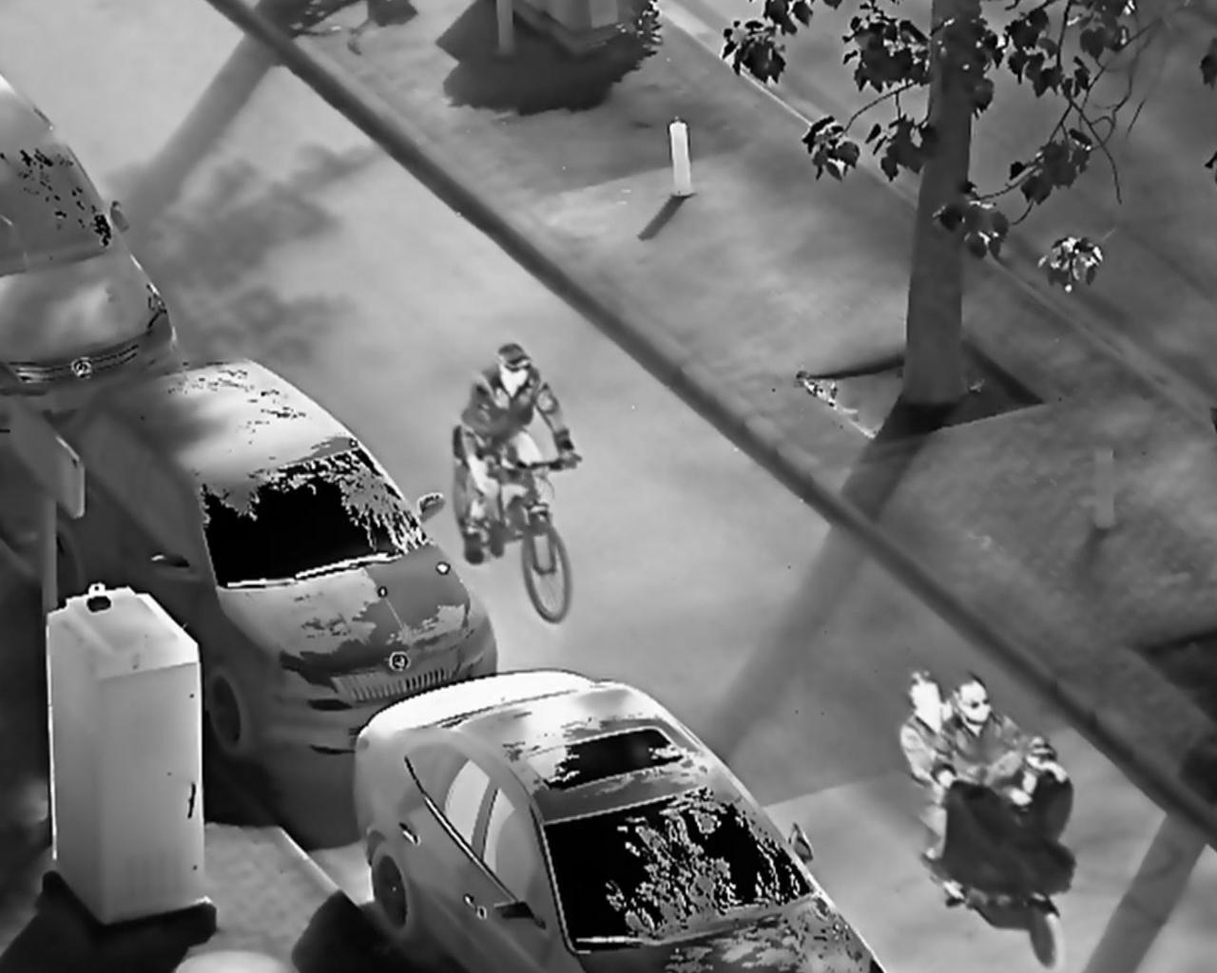person: (456, 338, 586, 571)
